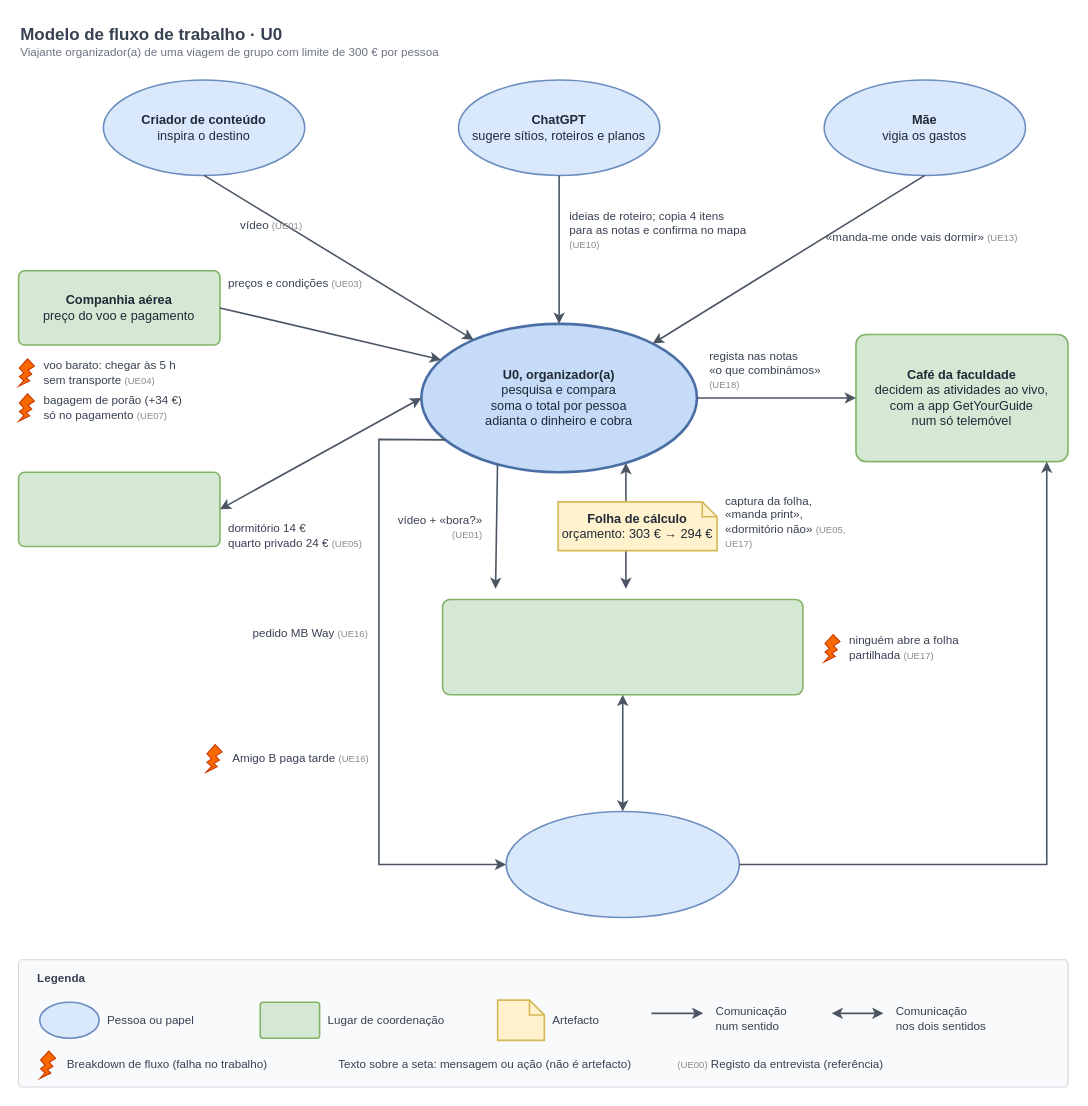
This 1088x1106 diagram has some shape labels left out. Each missing label, with the centre of its shape:
"Amigos A e B dão disponibilidade, votam e pagam a sua parte" goes at point 622,864.
"Grupo de mensagens votar, partilhar, lembrar quem paga" goes at point 622,646.
"Site de alojamento opções e reserva" goes at point 118,509.
